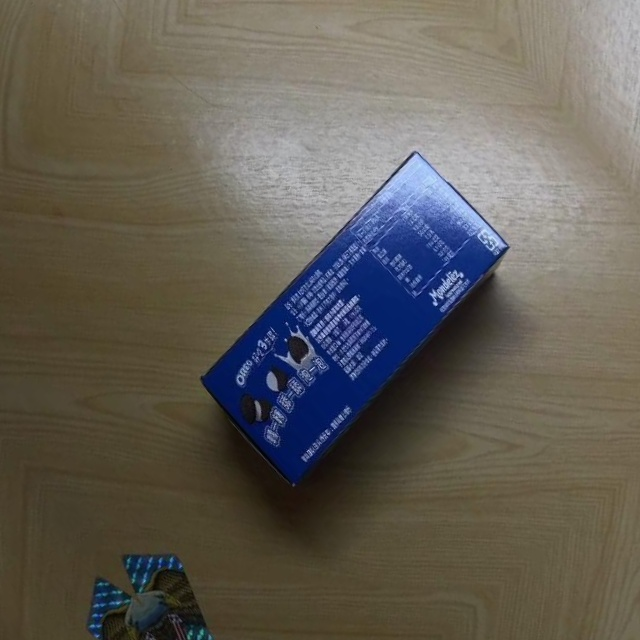Oreo: (174, 141, 540, 489)
